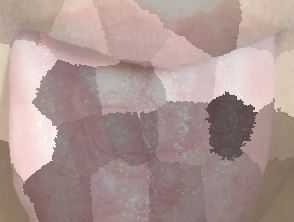SJS-TEN: (69, 48, 205, 222)
